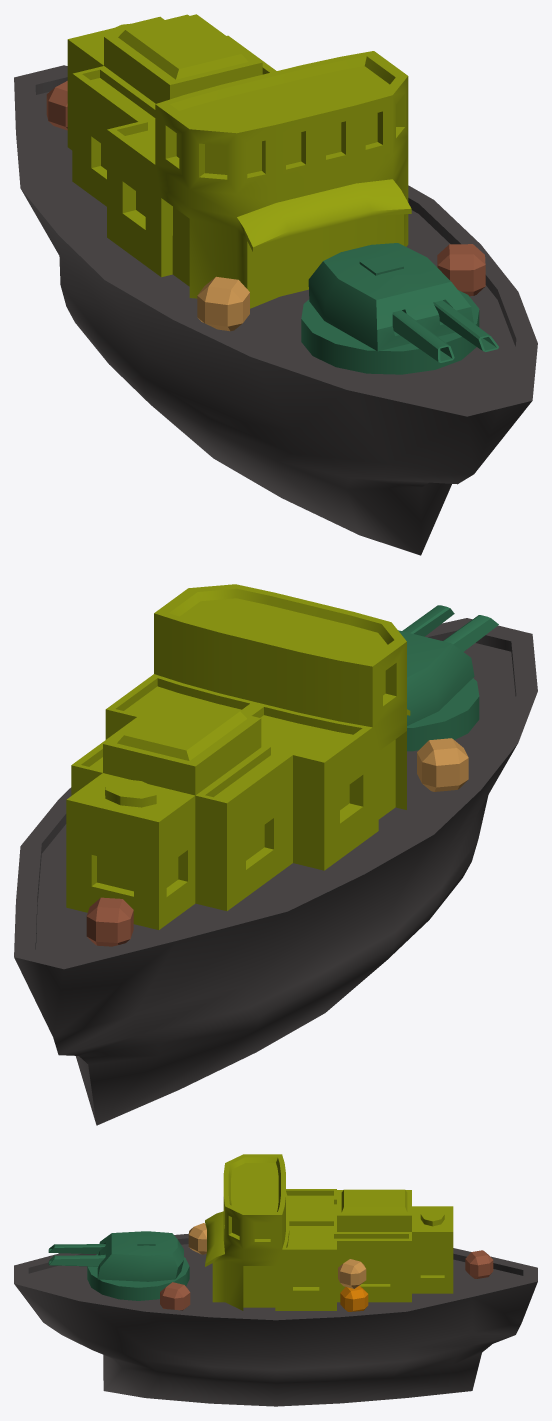
The model's file is Ship 2.fbx.
3 views of the same model, one above another, from view 1: azimuth 30°, elevation 25°; view 2: azimuth 150°, elevation 25°; view 3: azimuth 270°, elevation 25° (orthographic). The views are drawn at different scales.
Parts seen in each view (by area): view 1: Cube.005, Cube.004, Plane.001, Cube.007, Cube.008, Cube.000; view 2: Cube.004, Cube.005, Plane.001, Cube.007, Cube.000; view 3: Cube.005, Cube.004, Plane.001, Cube.008, Cube.009, Cube.000, Cube.006, Cube.007.
Part boxes in pixels (x1,y1,x2,y2): Cube.005: (14,65,537,555); Cube.004: (67,14,411,308); Plane.001: (301,243,498,374); Cube.007: (197,276,249,331); Cube.008: (437,244,485,296); Cube.000: (46,81,67,130); Cube.004: (66,584,410,929); Cube.005: (14,618,537,1125); Plane.001: (398,605,498,751); Cube.007: (417,738,468,791); Cube.000: (86,897,133,946); Cube.005: (14,1233,537,1406); Cube.004: (205,1154,453,1310); Plane.001: (48,1231,189,1300); Cube.008: (160,1282,190,1310); Cube.009: (338,1259,366,1288); Cube.000: (465,1250,493,1278); Cube.006: (340,1285,368,1311); Cube.007: (188,1223,206,1254).
Size of the model in its own units: 190 by 200 by 460.
